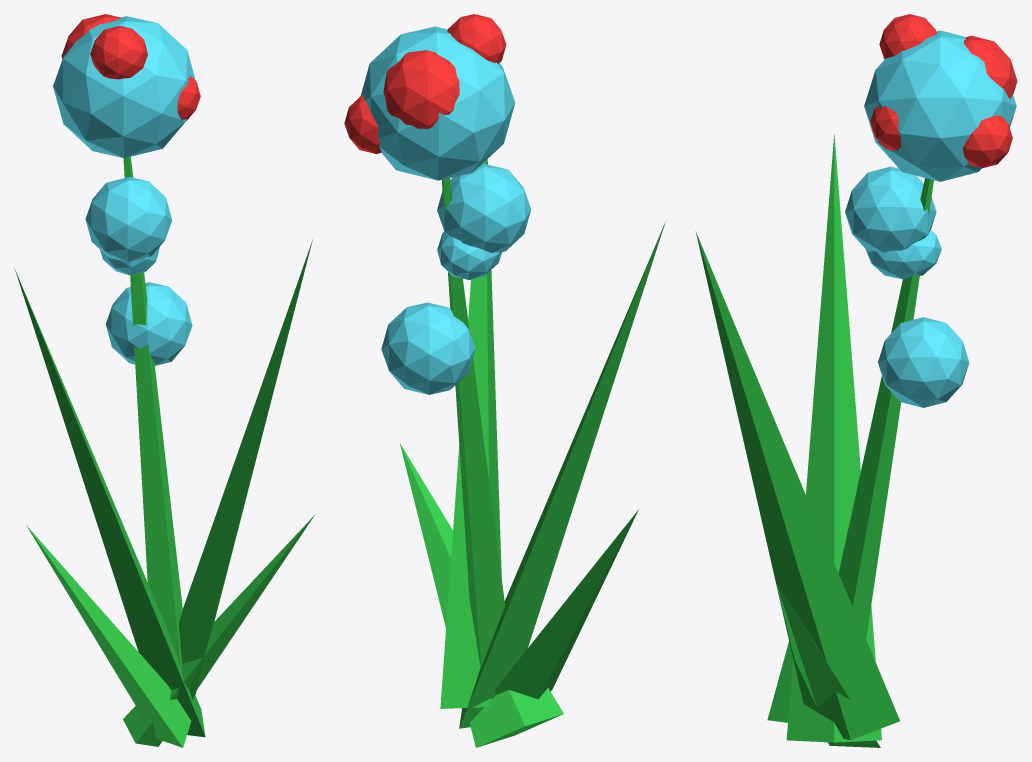
The model's file is FlowerBlue2.obj.
3 renders of one model, left to right at view 1: azimuth 30°, elevation 25°; view 2: azimuth 150°, elevation 25°; view 3: azimuth 270°, elevation 25°, orthographic. The views are drawn at different scales.
Visible parts, largest first — view 1: FlowerBlue2; view 2: FlowerBlue2; view 3: FlowerBlue2.
Boxes of the visible parts, left/top/right/bottom form: FlowerBlue2: left=14, top=14, right=315, bottom=747; FlowerBlue2: left=344, top=14, right=665, bottom=747; FlowerBlue2: left=695, top=14, right=1017, bottom=747.
Size of the model in its own units: 0.131 by 0.3159 by 0.1266.
